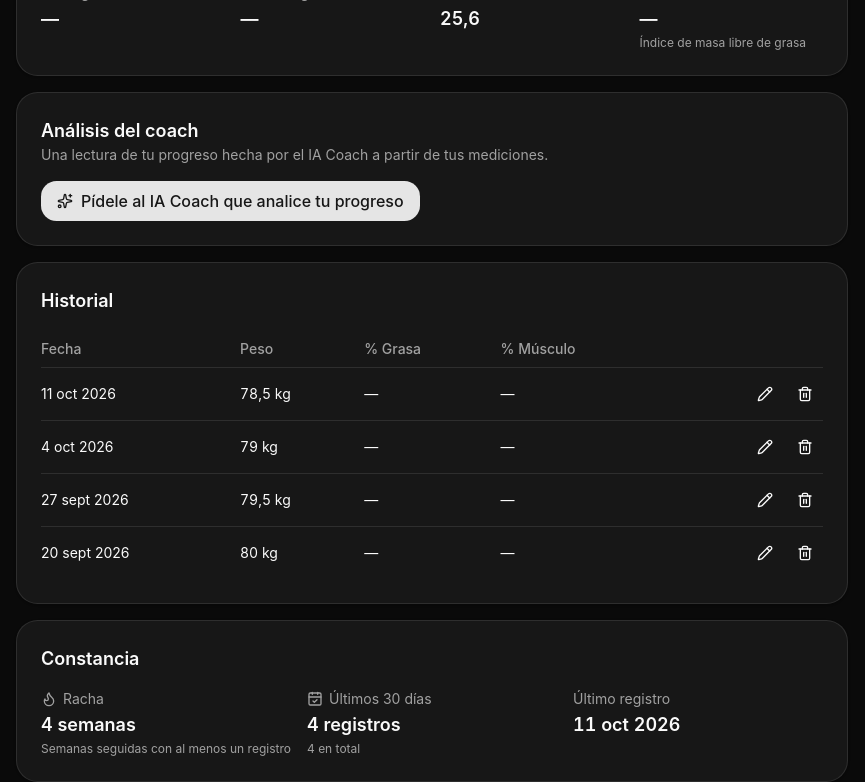
Test case: BodyMetricsPage - historial › al corregir la última medición a 78, el KPI 'Peso' muestra 78 kg sin recargar
The width and height of the screenshot is (865, 782).
(page scrolled)
Click the button named "Corregir medición del 11 oct 2026" at (765, 394), box x1=747 y1=376 x2=783 y2=412
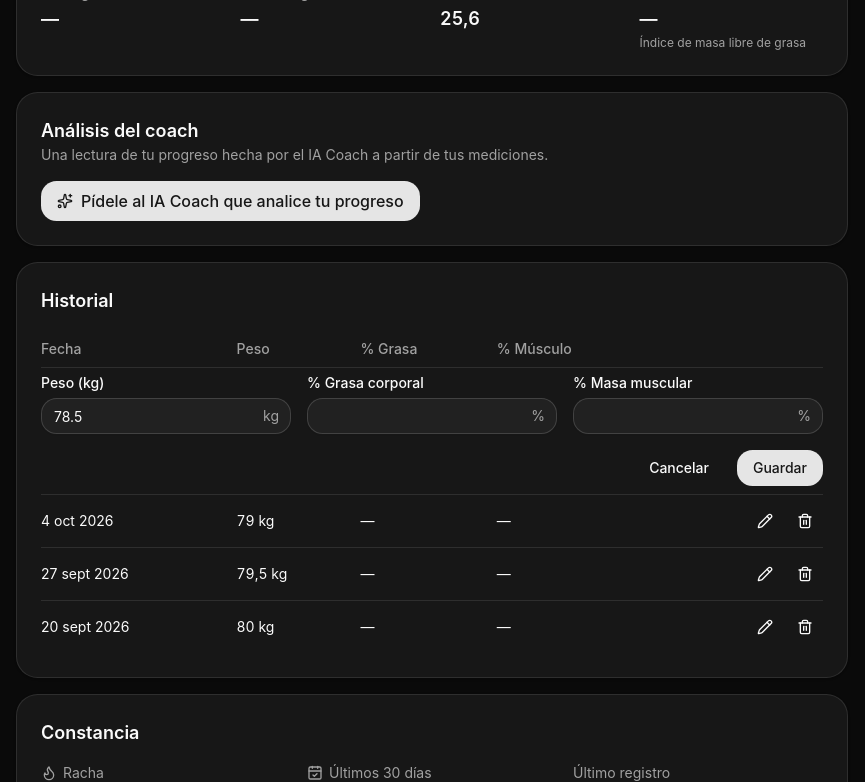
Replace the text in the number field labelled "Peso (kg)" with "78" at (166, 416), box x1=41 y1=398 x2=291 y2=434
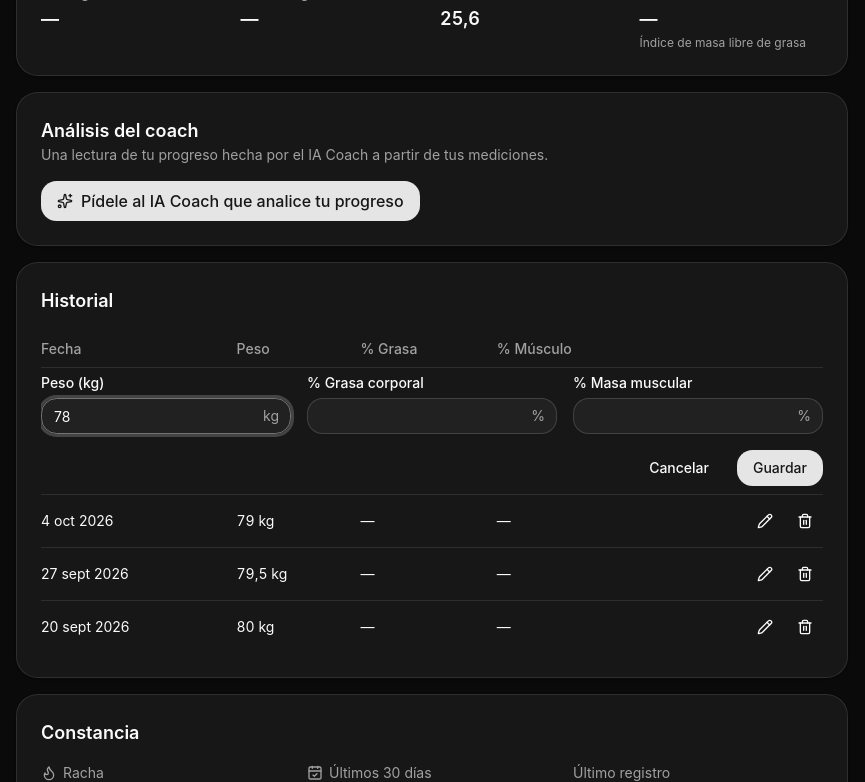
Click the button "Guardar" at (780, 468), box x1=737 y1=450 x2=823 y2=486
(page scrolled)
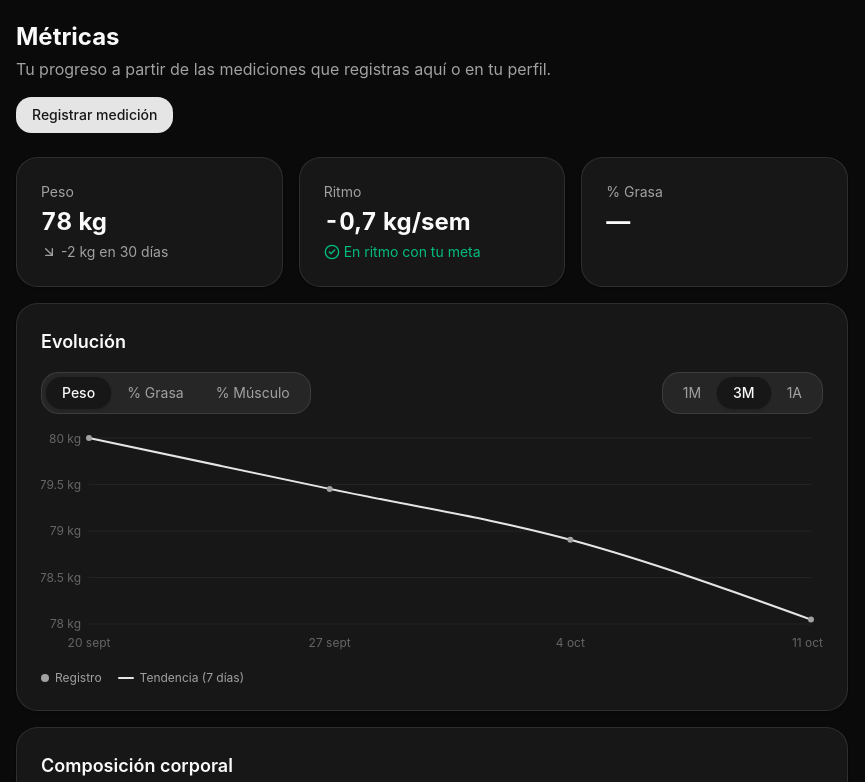
Check: the text "78 kg" is shown, box x1=41 y1=207 x2=107 y2=236
